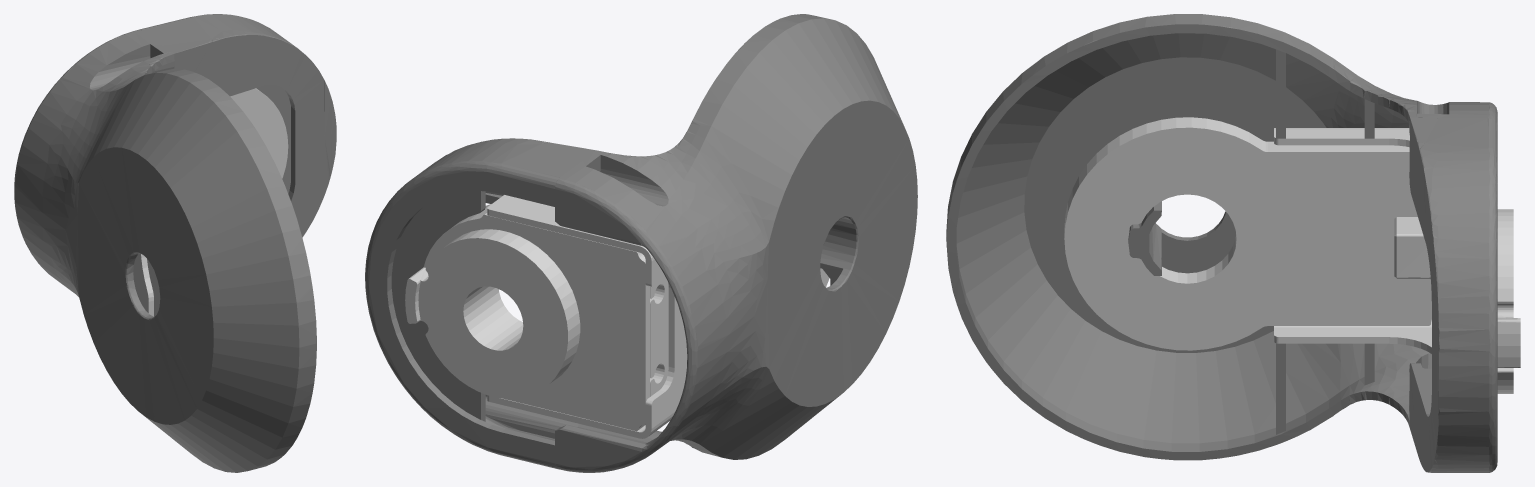
The picture shows the model from 3 angles, left to right: view 1: azimuth 30°, elevation 25°; view 2: azimuth 150°, elevation 25°; view 3: azimuth 270°, elevation 25°; orthographic projection. The views are drawn at different scales.
Bounding box in the file's own units: 0.0832 × 0.0979 × 0.1167.
Materials: 1 (1 with a texture image).
